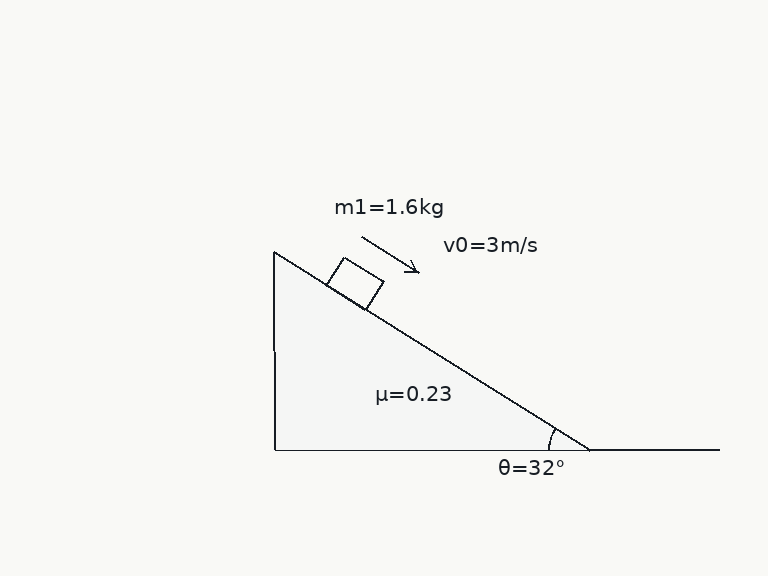block: (324, 255, 385, 312)
ramp: (272, 251, 591, 452)
